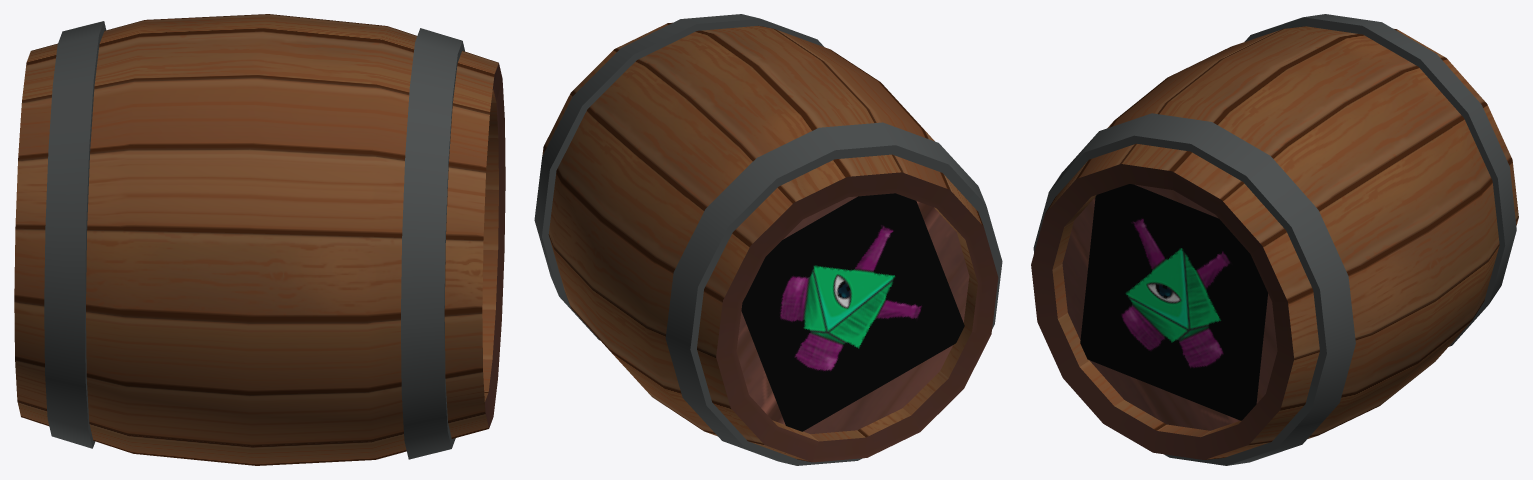
The model's file is Barrel_Art.fbx.
3 renders of one model, left to right at view 1: azimuth 30°, elevation 25°; view 2: azimuth 150°, elevation 25°; view 3: azimuth 270°, elevation 25°, orthographic. The views are drawn at different scales.
Parts seen in each view (by area): view 1: Oktoberfest_Barrel_Art__11_, Barrel_Iron1, Barrel_Iron2; view 2: Oktoberfest_Barrel_Art__11_, Logo1, Barrel_Iron2, Barrel_Cover2, Barrel_Iron1; view 3: Oktoberfest_Barrel_Art__11_, Logo, Barrel_Iron1, Barrel_Iron2, Barrel_Cover1.
Boxes of the visible parts, box(x1,y1,x2,y2) form: Oktoberfest_Barrel_Art__11_: box(14, 14, 505, 465); Barrel_Iron1: box(401, 28, 464, 459); Barrel_Iron2: box(44, 21, 106, 448); Oktoberfest_Barrel_Art__11_: box(542, 22, 998, 462); Logo1: box(741, 193, 964, 431); Barrel_Iron2: box(665, 122, 1002, 465); Barrel_Cover2: box(736, 196, 969, 434); Barrel_Iron1: box(534, 14, 823, 340); Oktoberfest_Barrel_Art__11_: box(1031, 26, 1518, 459); Logo: box(1080, 184, 1267, 420); Barrel_Iron1: box(1033, 113, 1355, 465); Barrel_Iron2: box(1244, 14, 1516, 346); Barrel_Cover1: box(1062, 184, 1277, 430).
Size of what is drawn, in the model's own units: 369 by 280 by 351.
